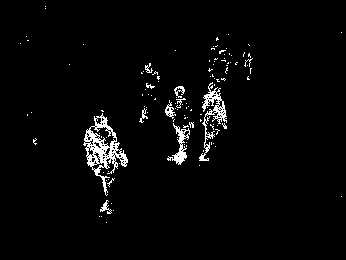person: (83, 114, 128, 214), (164, 83, 195, 165), (200, 83, 228, 162), (138, 61, 162, 122)
